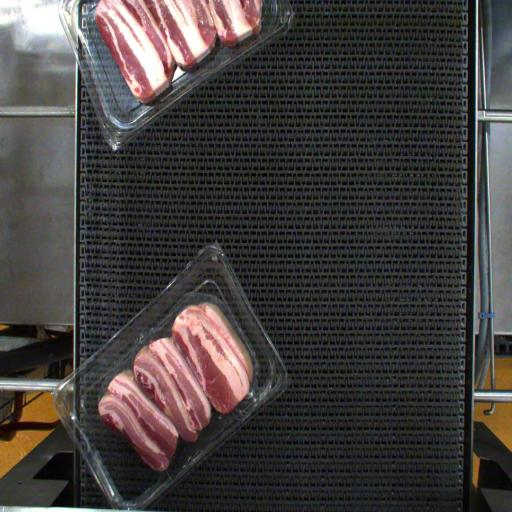unsealed: (98, 275, 277, 470)
